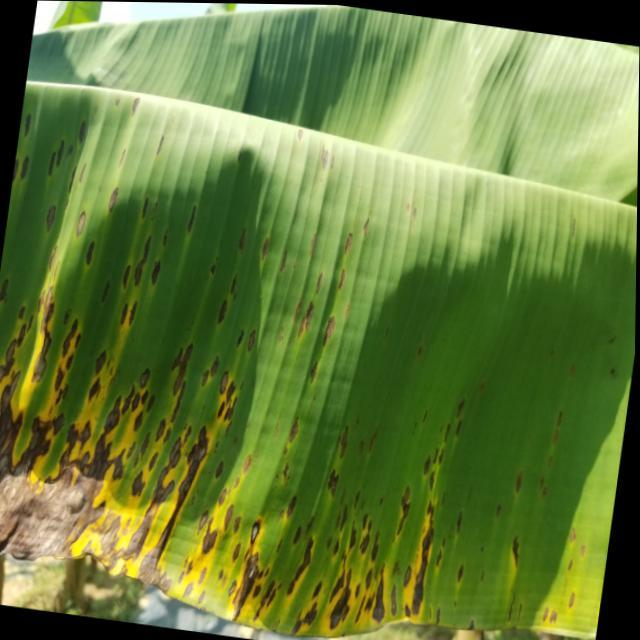Early_rust: (0, 66, 640, 640)
